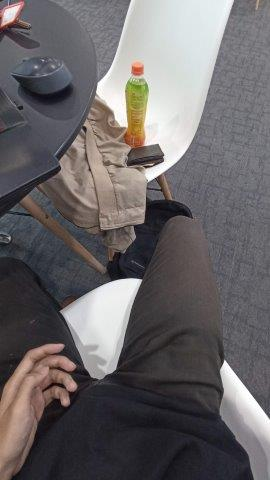botolplastik: (125, 63, 150, 147)
